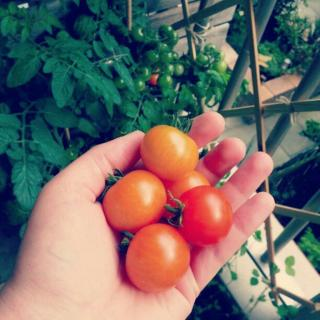tomato: (118, 223, 190, 294), (97, 166, 169, 234), (166, 184, 236, 247), (138, 123, 197, 183), (161, 163, 210, 221)
